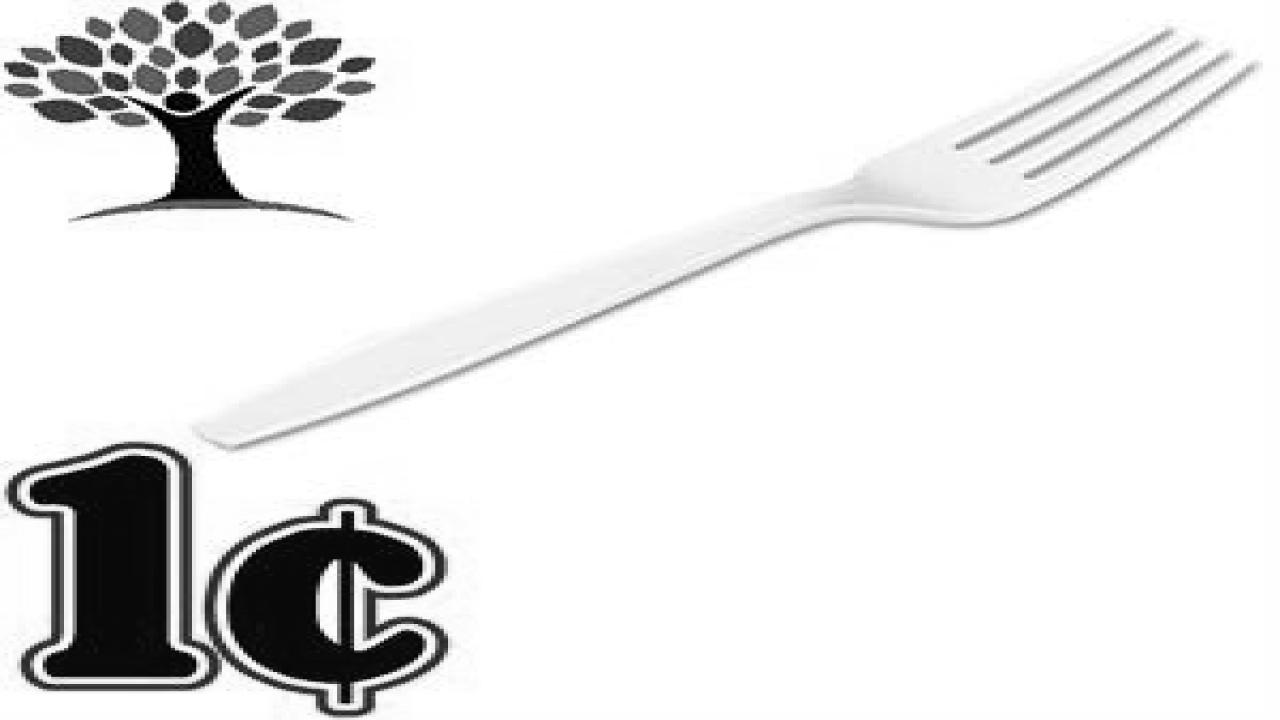fork: (188, 22, 1258, 451)
